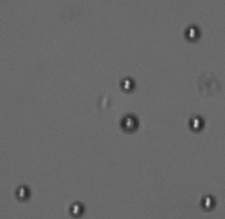Living Cell: (120, 111, 140, 133), (183, 24, 201, 41), (187, 115, 205, 131), (68, 200, 84, 216), (15, 184, 31, 200), (120, 77, 135, 92), (201, 194, 215, 209)
